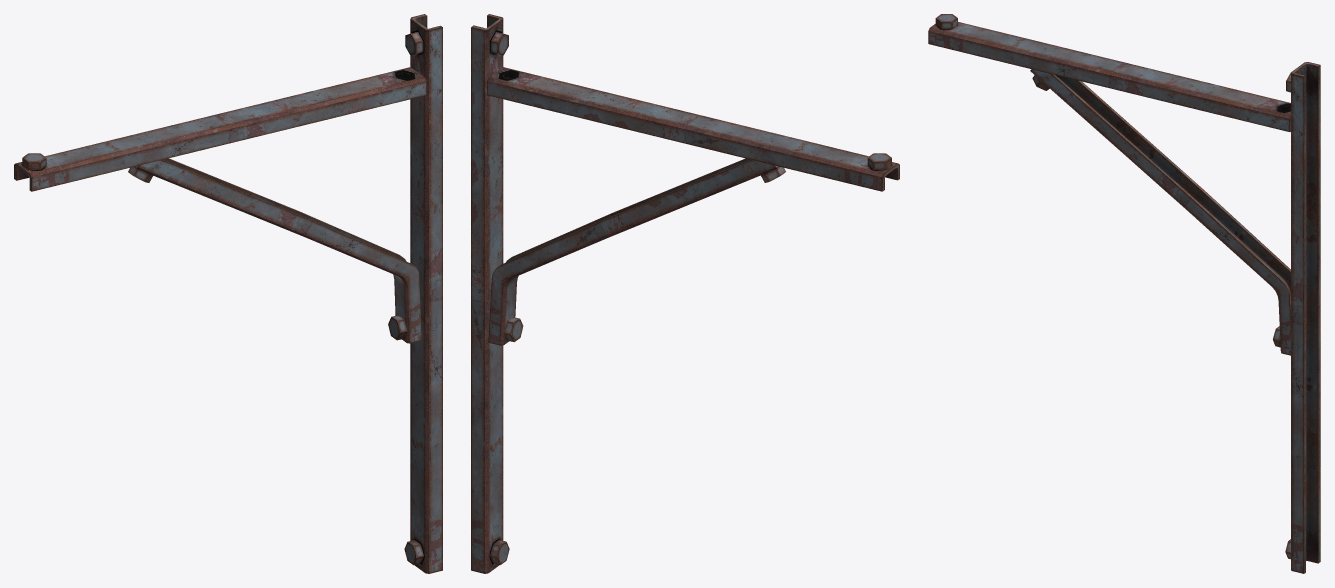
File: sm_Ventilation_03_03.fbx
3 renders of one model, left to right at view 1: azimuth 30°, elevation 25°; view 2: azimuth 150°, elevation 25°; view 3: azimuth 330°, elevation 25°, orthographic. The views are drawn at different scales.
Visible parts, largest first — view 1: sm_Ventilation_03_03_LOD0; view 2: sm_Ventilation_03_03_LOD0; view 3: sm_Ventilation_03_03_LOD0.
Boxes of the visible parts, <box> form: sm_Ventilation_03_03_LOD0: <box>14,14,442,573</box>; sm_Ventilation_03_03_LOD0: <box>471,14,899,573</box>; sm_Ventilation_03_03_LOD0: <box>928,14,1320,573</box>.
Size of the model in its own units: 67.11 by 5.12 by 84.77.
